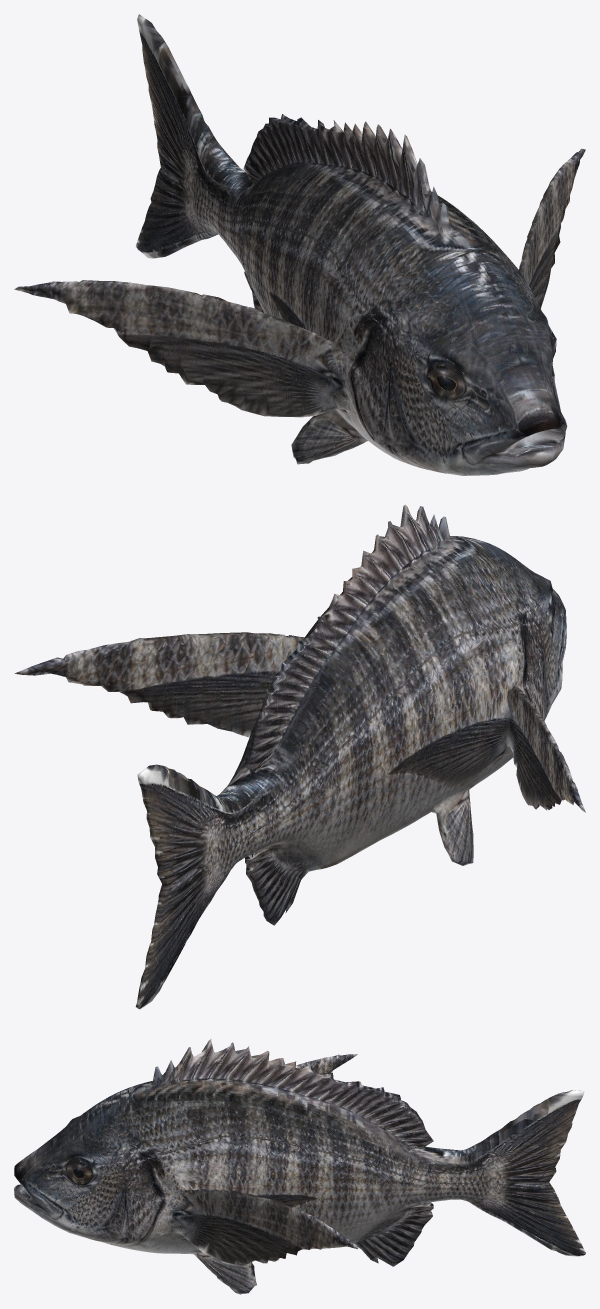
Rendered from fish_porgy.glb.
3 renders of one model, top to bottom at view 1: azimuth 30°, elevation 25°; view 2: azimuth 150°, elevation 25°; view 3: azimuth 270°, elevation 25°, orthographic. The views are drawn at different scales.
Visible parts, largest first — view 1: geometry_0; view 2: geometry_0; view 3: geometry_0.
Part boxes in pixels (x1=…): geometry_0: x1=14, y1=14, x2=585, y2=475; geometry_0: x1=14, y1=504, x2=585, y2=1009; geometry_0: x1=14, y1=1039, x2=585, y2=1294.
Size of the model in its own units: 1.58 by 0.86 by 1.95.
1 material, 1 textured.
